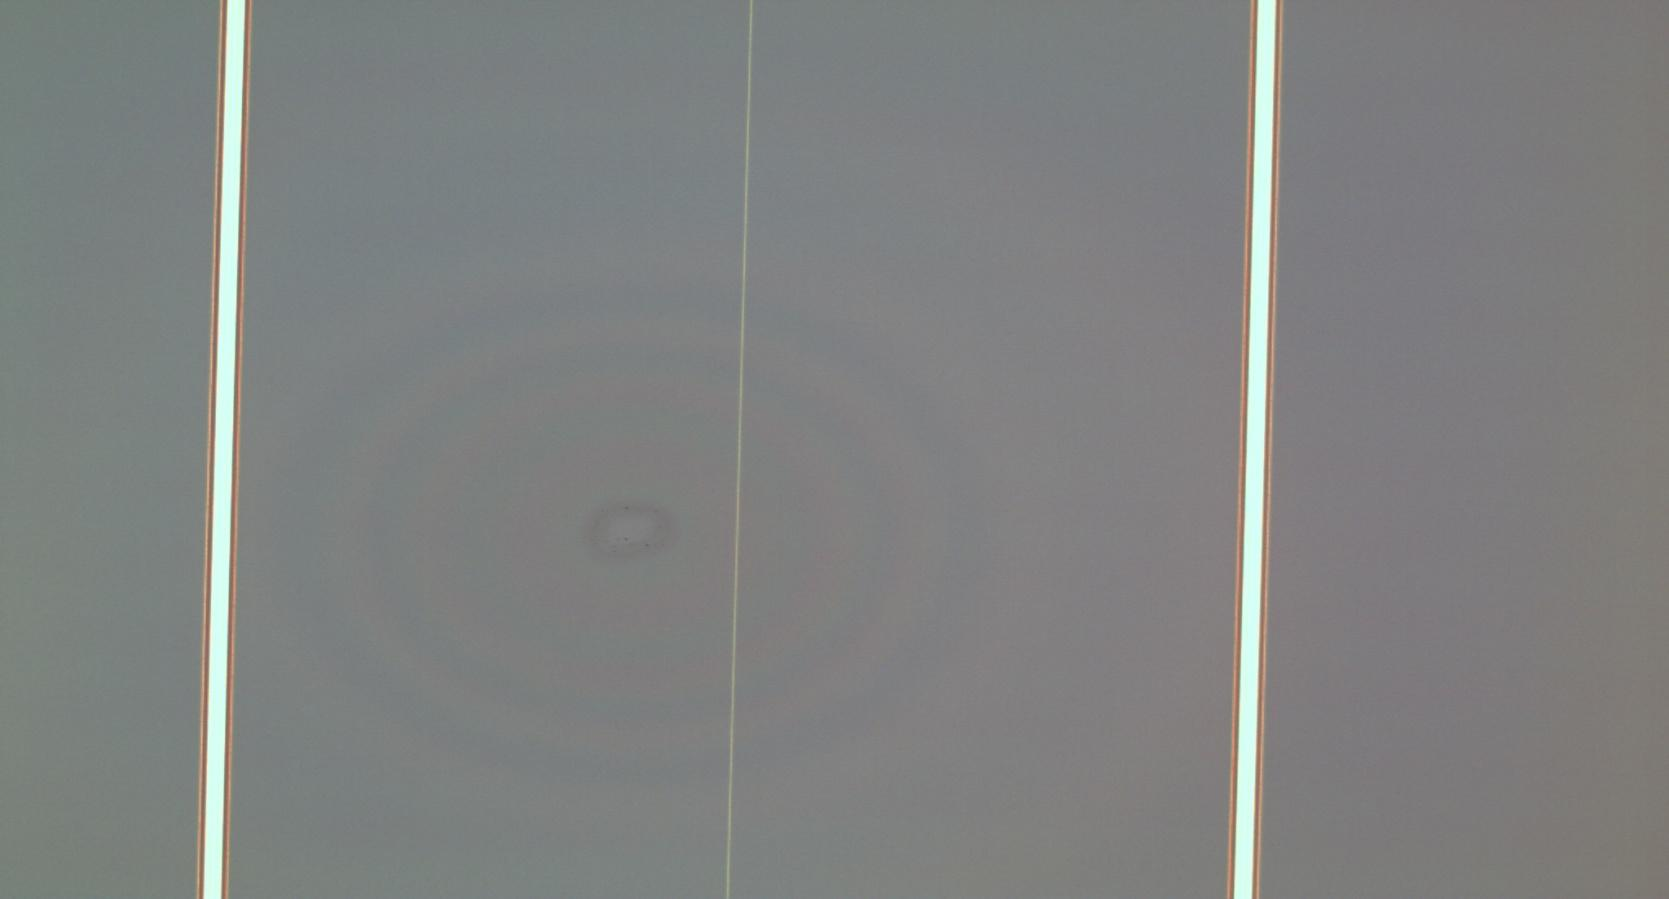PIQ PARTICLE: (564, 472, 681, 588)
